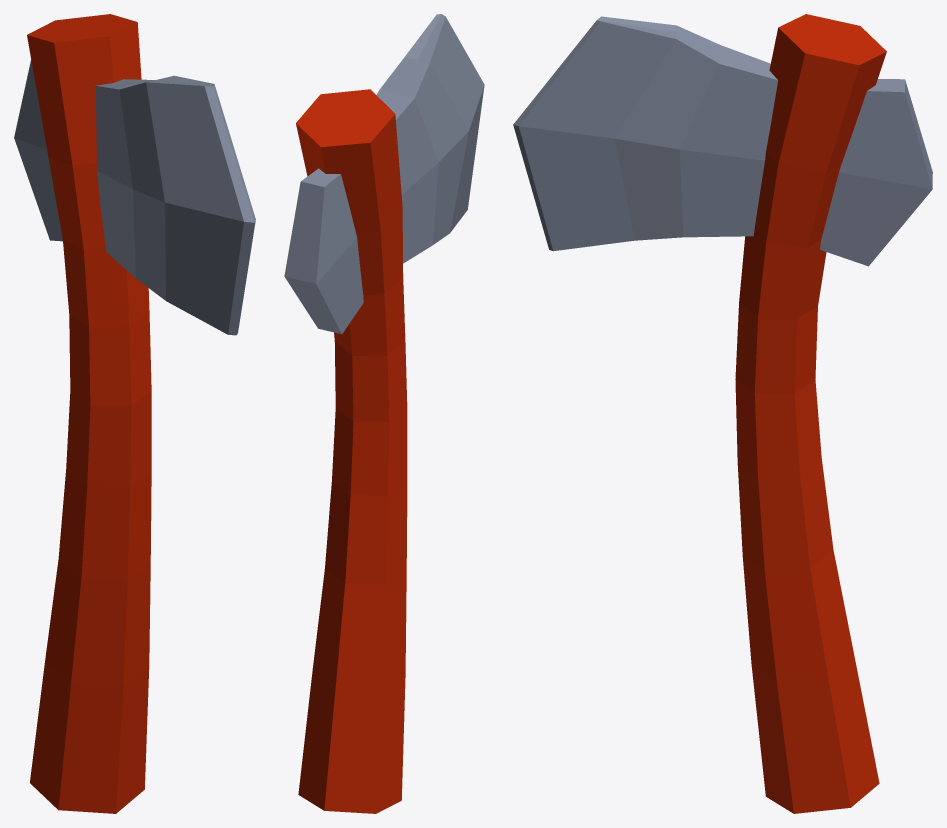
File: axe.obj
The picture shows the model from 3 angles, left to right: view 1: azimuth 30°, elevation 25°; view 2: azimuth 150°, elevation 25°; view 3: azimuth 270°, elevation 25°; orthographic projection. The views are drawn at different scales.
Parts seen in each view (by area): view 1: Circle; view 2: Circle; view 3: Circle.
Boxes of the visible parts, bbox=[...] form: Circle: bbox=[14, 14, 255, 813]; Circle: bbox=[284, 14, 484, 813]; Circle: bbox=[513, 14, 932, 813].
Size of the model in its own units: 0.077 by 0.6729 by 0.3269.
